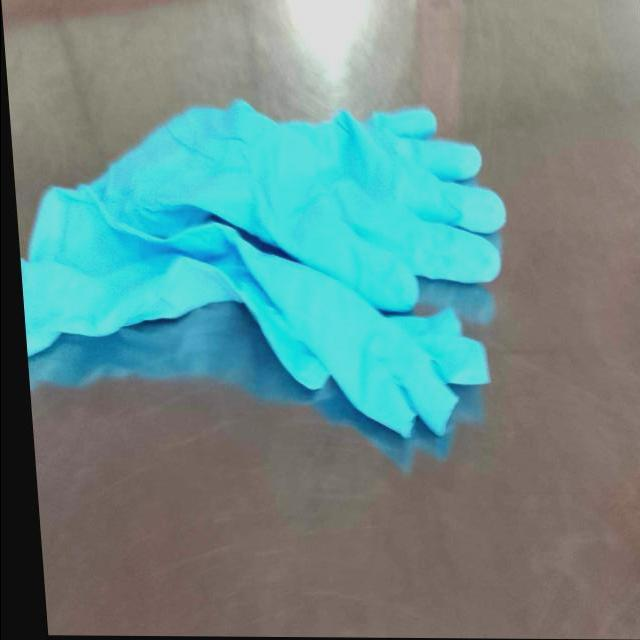General: (4, 1, 639, 637), (21, 97, 508, 443)
